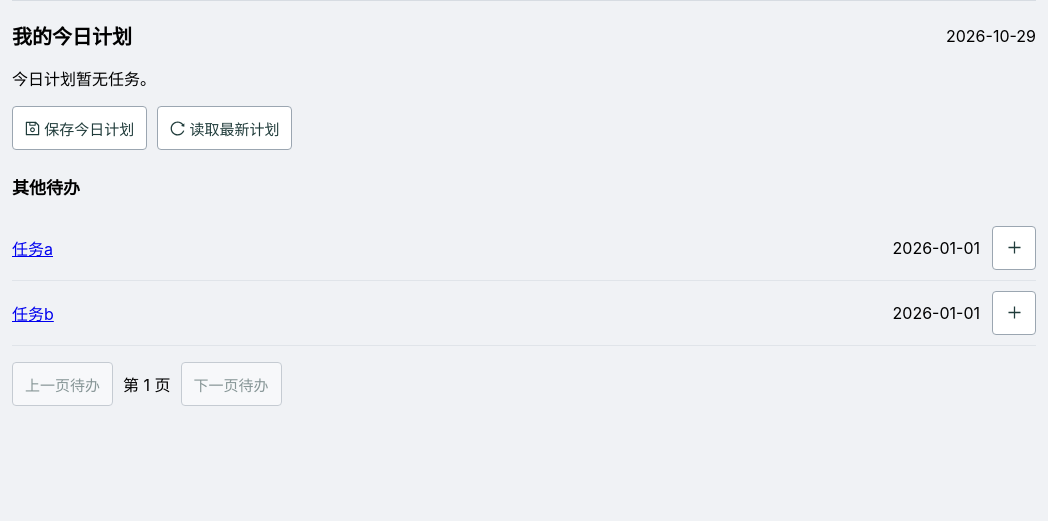
Scenario: unknown response and read failure preserve exact original version and estimates for retry
The image size is (1048, 521).
Click the button named "加入今日计划 任务a".
click(1014, 248)  # box [992,226,1036,270]
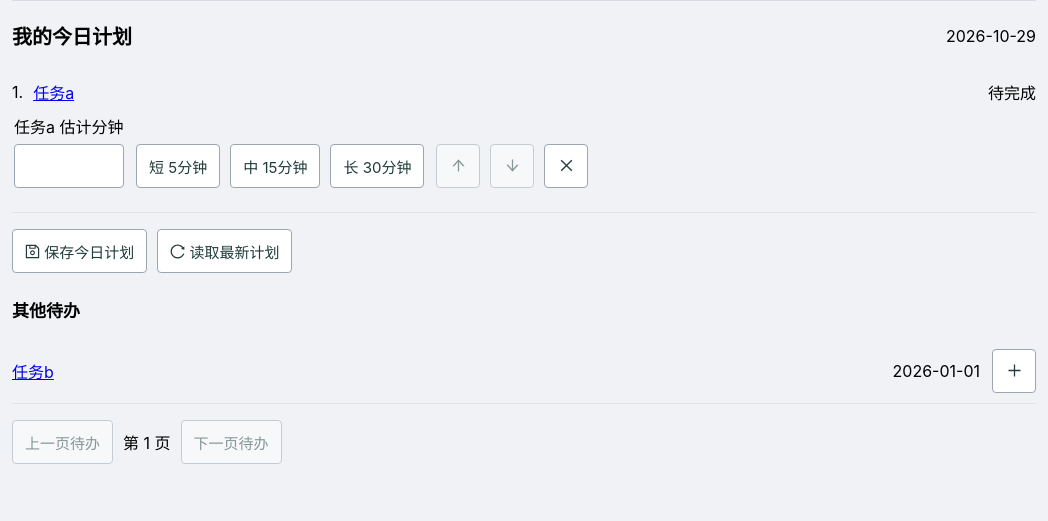
Click the button "保存今日计划".
click(80, 251)  # box [12,229,147,273]
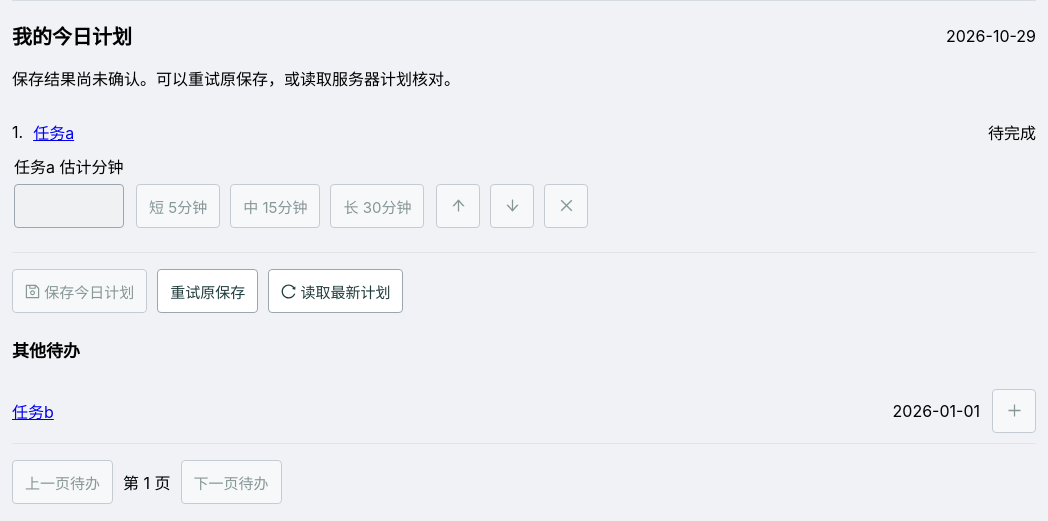
Now the button "重试原保存" is shown, box [157,269,258,313]
Click the button "读取最新计划".
click(336, 291)  # box [268,269,404,313]
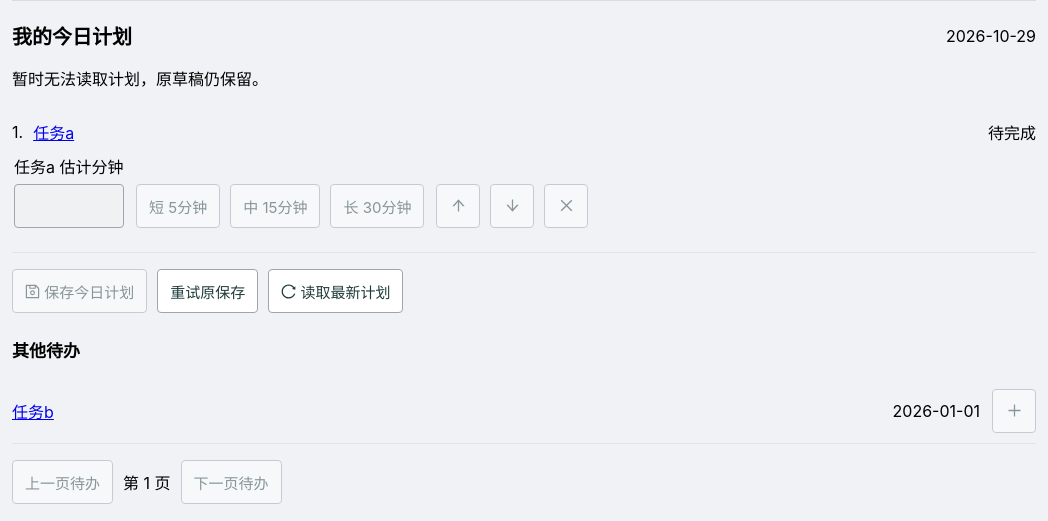
Now the text "暂时无法读取计划，原草稿仍保留。" is shown, box [12,69,268,89]
Click the button "重试原保存".
click(208, 291)  # box [157,269,258,313]
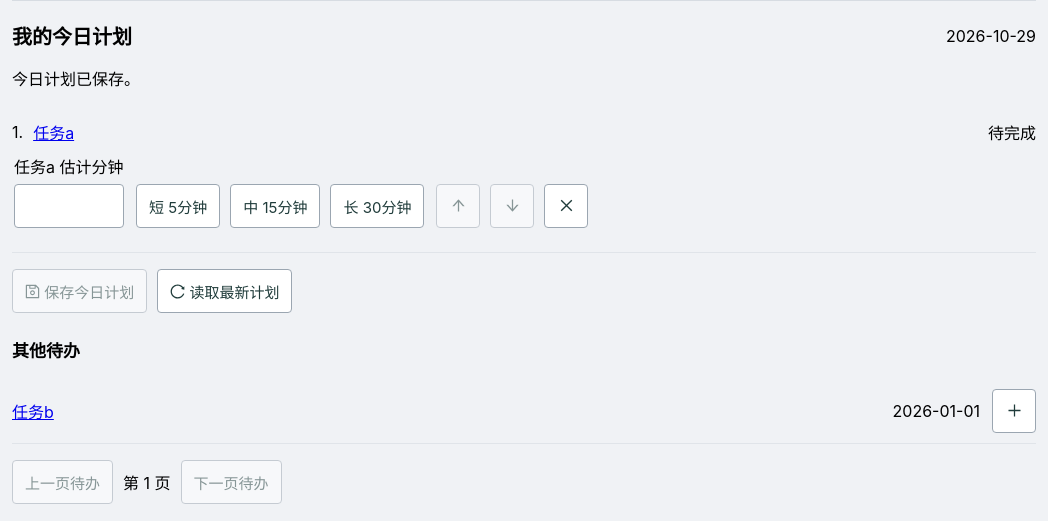
Now the text "今日计划已保存。" is shown, box [12,69,140,89]
